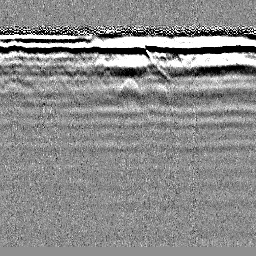cavity: (117, 76, 139, 94)
